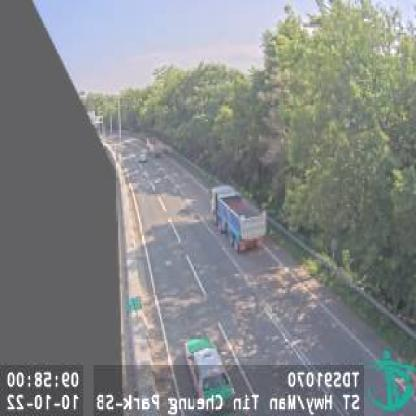Car: (186, 335, 238, 409)
Truck: (210, 181, 265, 252)
